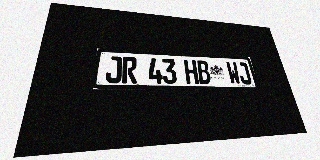3: (162, 59, 177, 84)
4: (148, 58, 163, 84)
B: (196, 60, 212, 84)
H: (184, 60, 199, 84)
J: (105, 56, 122, 83), (236, 62, 252, 84)
R: (122, 57, 137, 83)
W: (226, 62, 241, 84)
